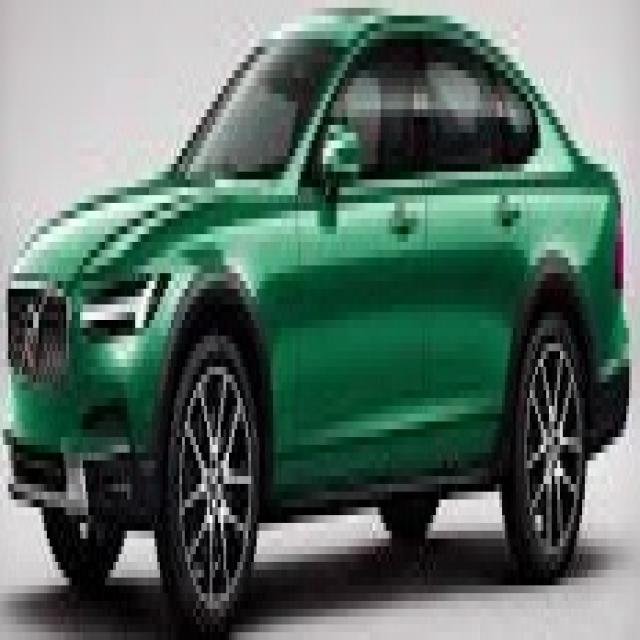green: (3, 8, 626, 640)
